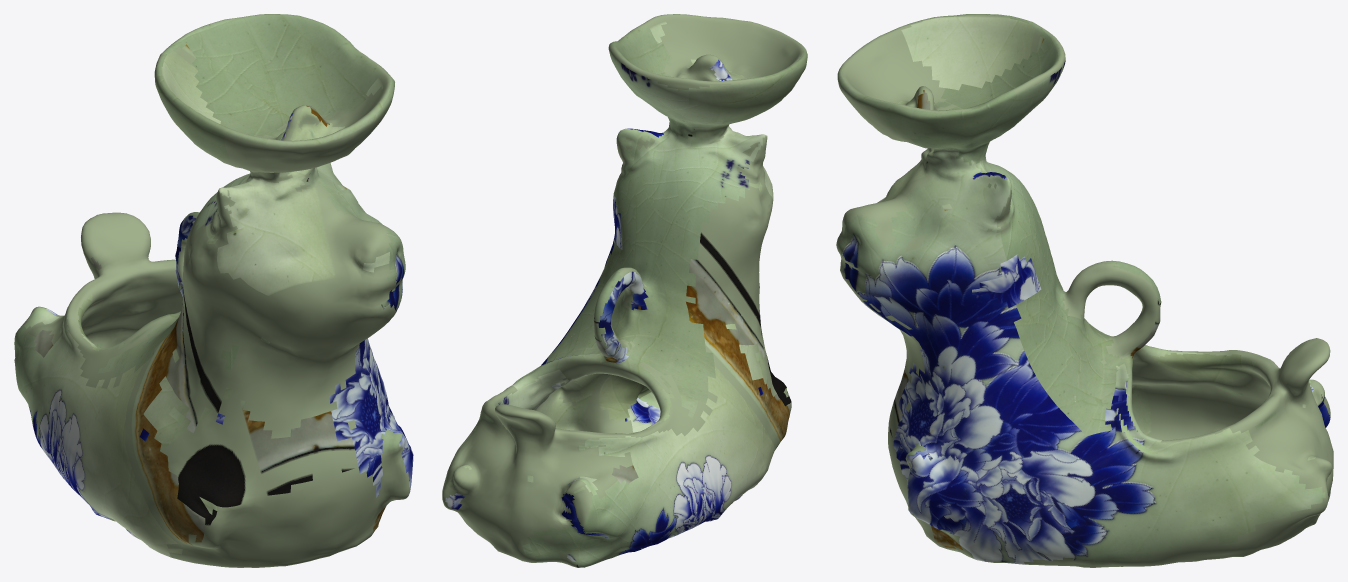
3 views of the same model, side by side, from view 1: azimuth 30°, elevation 25°; view 2: azimuth 150°, elevation 25°; view 3: azimuth 270°, elevation 25° (orthographic). The views are drawn at different scales.
Parts seen in each view (by area): view 1: Retopo_mesh.002_0; view 2: Retopo_mesh.002_0; view 3: Retopo_mesh.002_0.
Part boxes in pixels (left/top/right/bottom): Retopo_mesh.002_0: left=14, top=14, right=413, bottom=567; Retopo_mesh.002_0: left=442, top=14, right=807, bottom=567; Retopo_mesh.002_0: left=836, top=14, right=1333, bottom=567.
Bounding box in the file's own units: 1.81 × 3.25 × 3.2.
